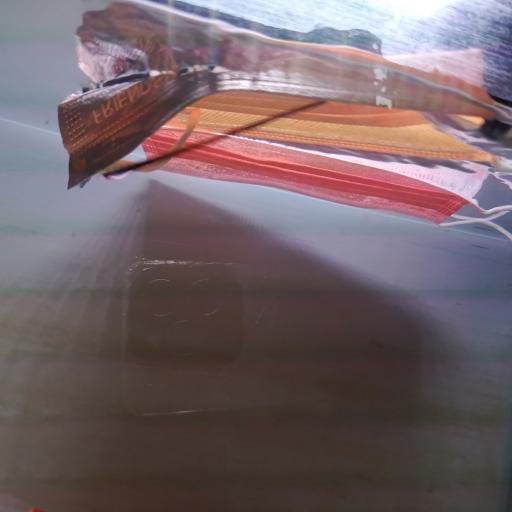mask: (53, 71, 512, 240)
